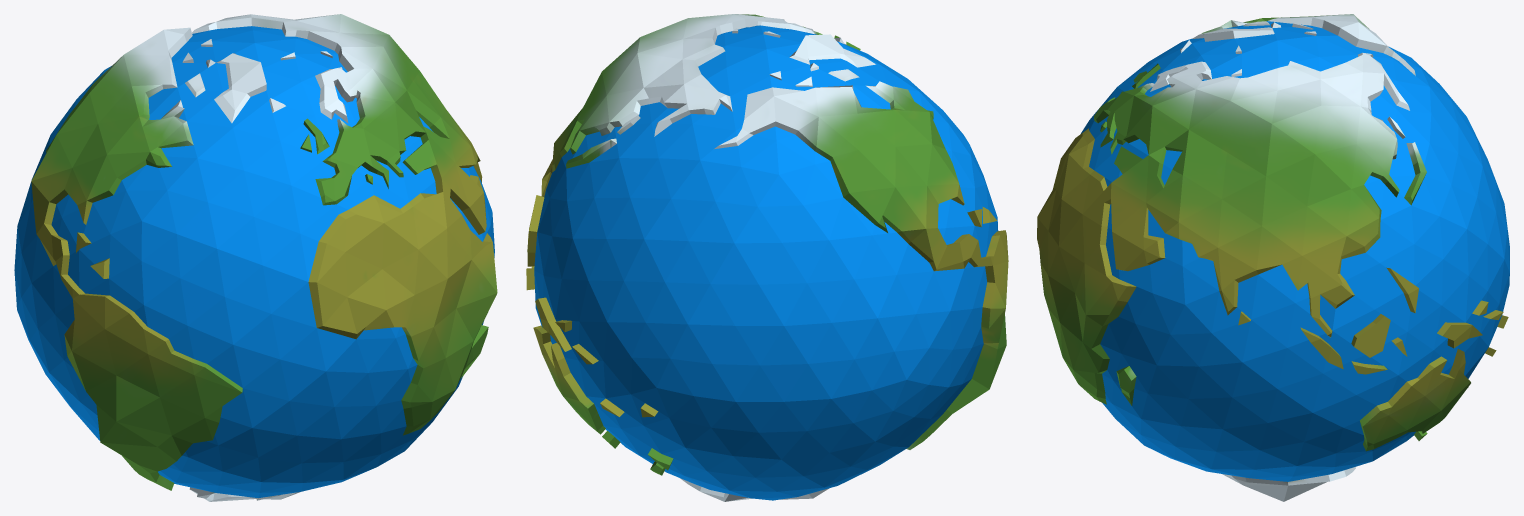
The model's file is earth2.glb.
3 renders of one model, left to right at view 1: azimuth 30°, elevation 25°; view 2: azimuth 150°, elevation 25°; view 3: azimuth 270°, elevation 25°, orthographic. The views are drawn at different scales.
Visible parts, largest first — view 1: earth4; view 2: earth4; view 3: earth4.
Part boxes in pixels (x1=…): earth4: x1=14, y1=14, x2=497, y2=501; earth4: x1=526, y1=14, x2=1008, y2=501; earth4: x1=1037, y1=14, x2=1509, y2=501.
Bounding box in the file's own units: 17.33 × 17.94 × 17.29.
Materials: 3 (2 with a texture image).
